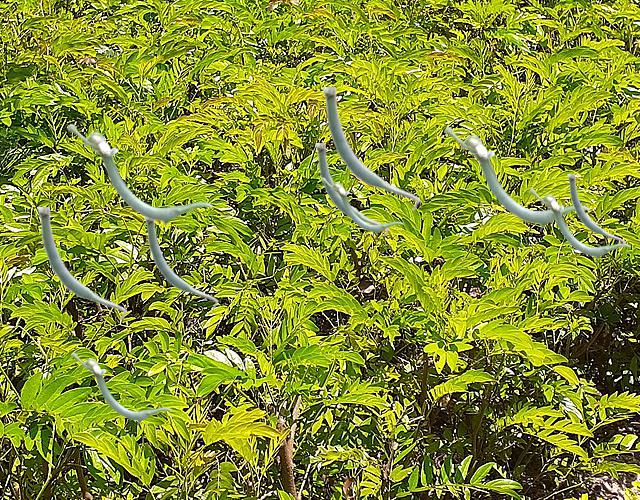french_bean: (444, 126, 589, 227), (67, 123, 212, 224), (322, 87, 419, 210), (37, 207, 126, 320), (529, 188, 629, 258), (71, 352, 171, 422), (315, 143, 388, 236), (144, 217, 217, 308), (321, 177, 402, 233), (567, 174, 624, 247)
